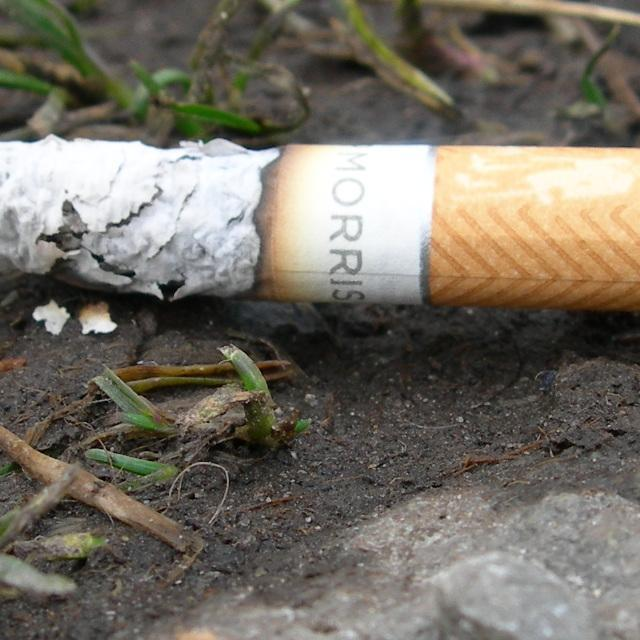Cigarette Butt: (0, 133, 640, 327)
